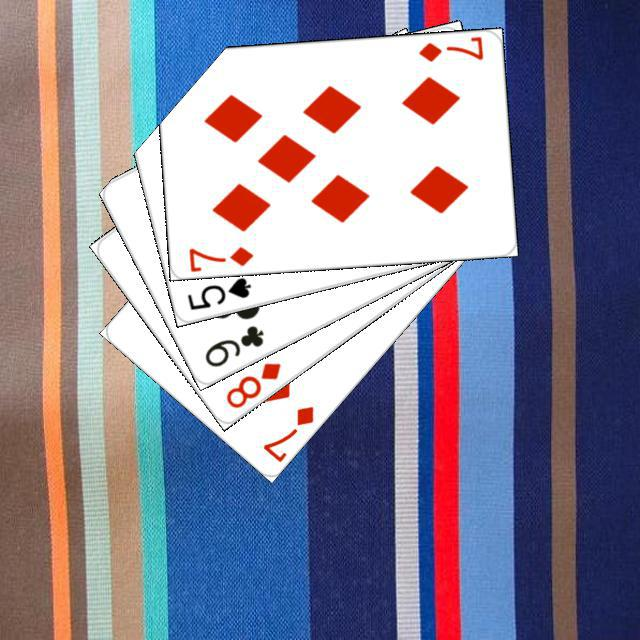5s: (182, 272, 253, 312)
7d: (257, 400, 316, 463), (183, 242, 255, 272), (414, 33, 485, 63)
8d: (220, 357, 283, 410)
9c: (199, 320, 266, 369)
